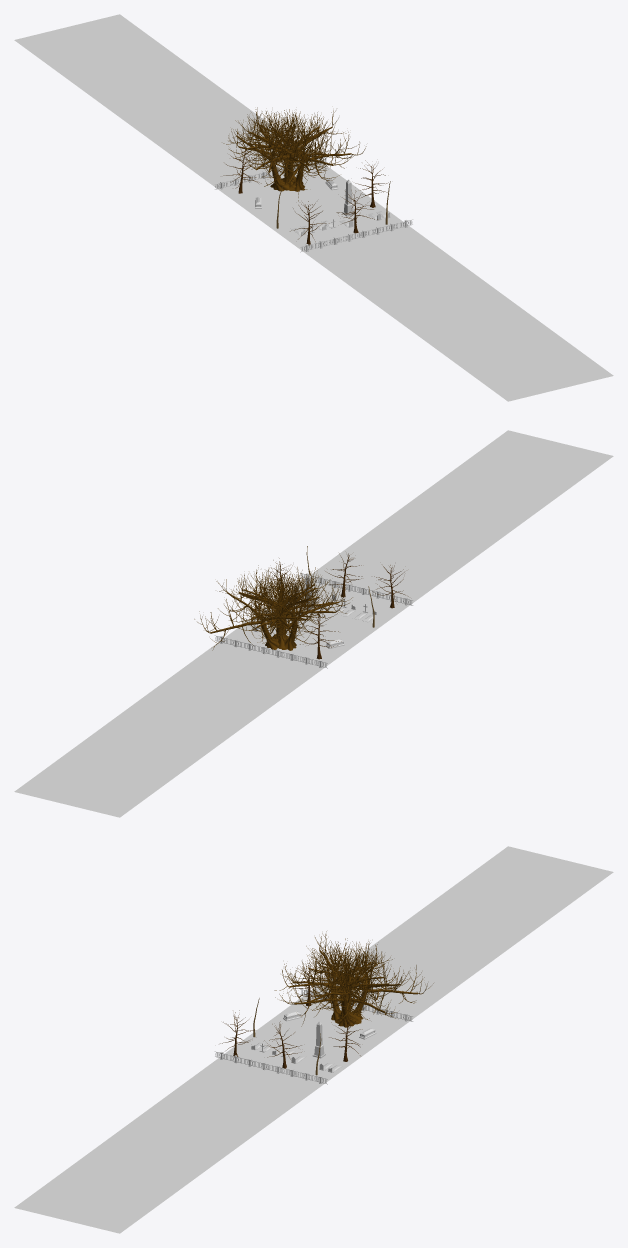
The picture shows the model from 3 angles, top to bottom: view 1: azimuth 30°, elevation 25°; view 2: azimuth 150°, elevation 25°; view 3: azimuth 330°, elevation 25°; orthographic projection.
Visible parts, largest first — view 1: GY100, Foliage001, GY102, Object007; view 2: GY100, Foliage001, GY102; view 3: GY100, Foliage001, GY102, Object007.
Part boxes in pixels (bbox=[...]): GY100: bbox=[14, 14, 613, 401]; Foliage001: bbox=[223, 107, 366, 201]; GY102: bbox=[214, 157, 413, 252]; Object007: bbox=[290, 210, 390, 235]; GY100: bbox=[14, 430, 613, 817]; Foliage001: bbox=[194, 563, 352, 650]; GY102: bbox=[214, 573, 413, 668]; GY100: bbox=[14, 846, 613, 1233]; Foliage001: bbox=[274, 931, 433, 1027]; GY102: bbox=[214, 989, 413, 1084]; Object007: bbox=[251, 1041, 342, 1072].
Bounding box in the file's own units: 1171 × 751 × 8000.
